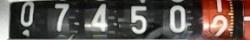digits: (87, 3, 111, 32), (167, 4, 190, 32), (129, 5, 147, 34), (208, 14, 228, 39), (54, 3, 69, 31), (20, 1, 34, 27)
